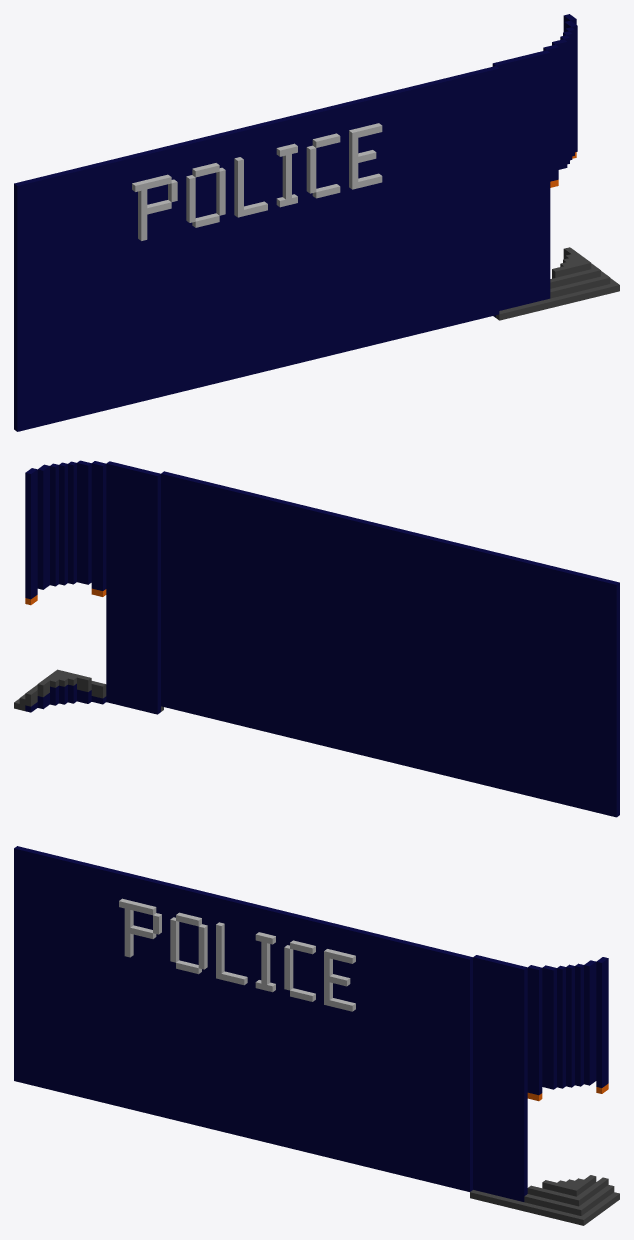
File: Police Good-2-West wall.obj
3 renders of one model, top to bottom at view 1: azimuth 30°, elevation 25°; view 2: azimuth 150°, elevation 25°; view 3: azimuth 330°, elevation 25°, orthographic. The views are drawn at different scales.
Visible parts, largest first — view 1: West wall; view 2: West wall; view 3: West wall.
Boxes of the visible parts, x1,y1,x2,y2 form: West wall: (14,14,619,431); West wall: (14,460,619,817); West wall: (14,846,619,1225).
Bounding box in the file's own units: 10 × 4 × 1.2.
Materials: 1 (1 with a texture image).
